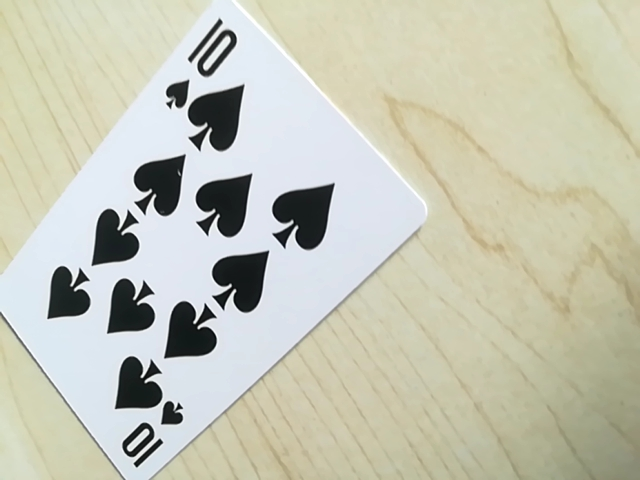ht 10: (161, 12, 244, 119), (110, 405, 185, 476)
